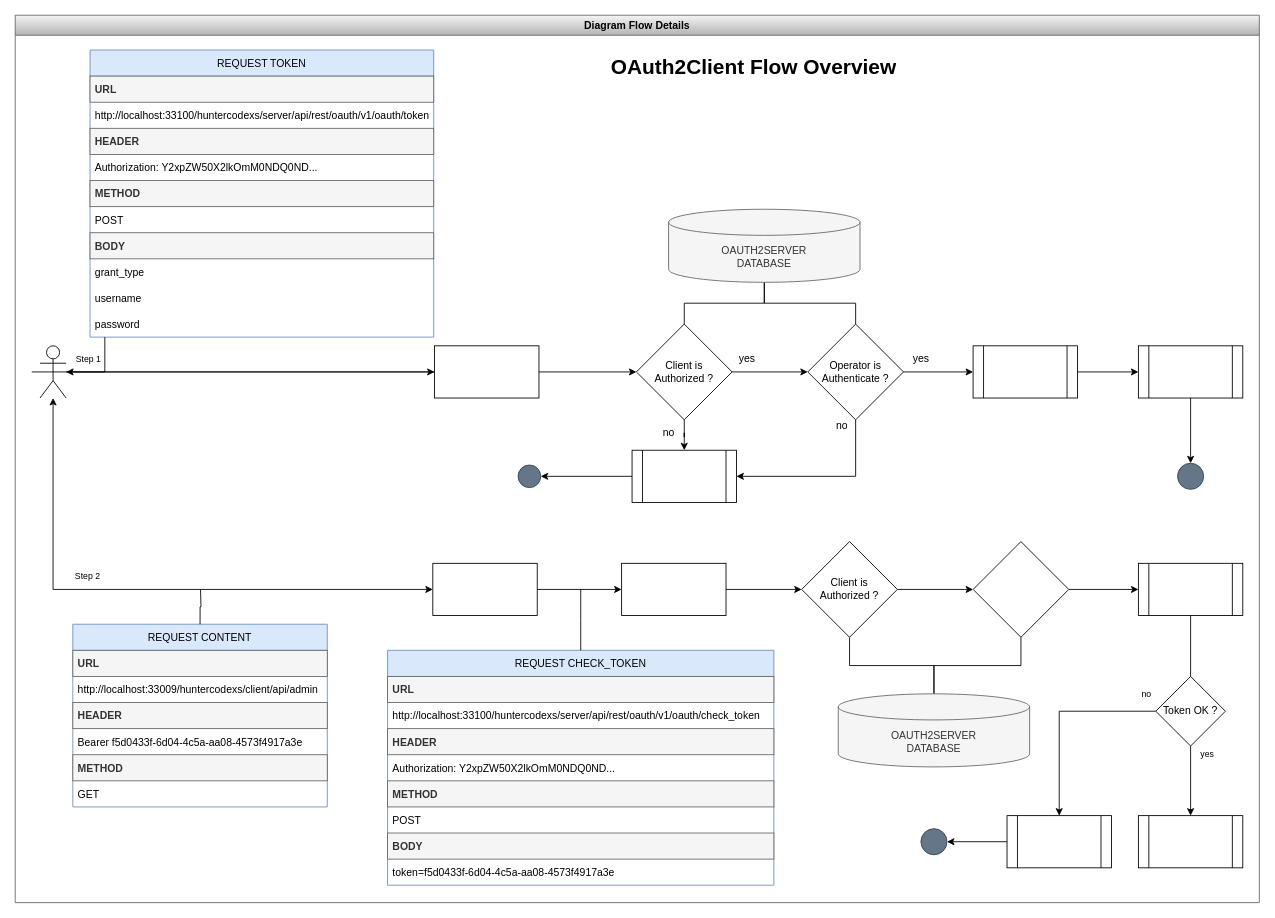
This 1275x918 diagram has some shape labels left out. The shapes that lost their labels are listed below. From the top down, each one's centre as x and y in pixels, then its label:
pixel 52 371: USER
pixel 486 371: OAUTH2SERVER TOKEN
pixel 1024 371: token
pixel 1190 371: response token to user
pixel 683 475: response error to user
pixel 484 589: CLIENT APPLICATION
pixel 673 589: OAUTH2 CHECK_TOKEN
pixel 1020 589: Token is Valid ?
pixel 1190 589: response to client
pixel 1058 841: Lock User to Content Access
pixel 1190 841: Allow User to Content Access
